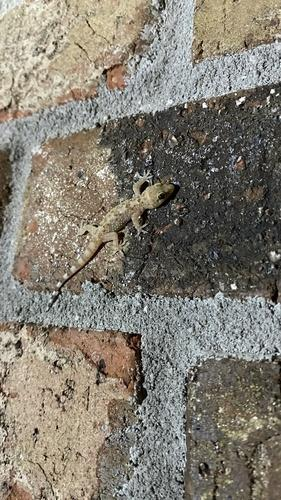lizard: (42, 170, 189, 308)
